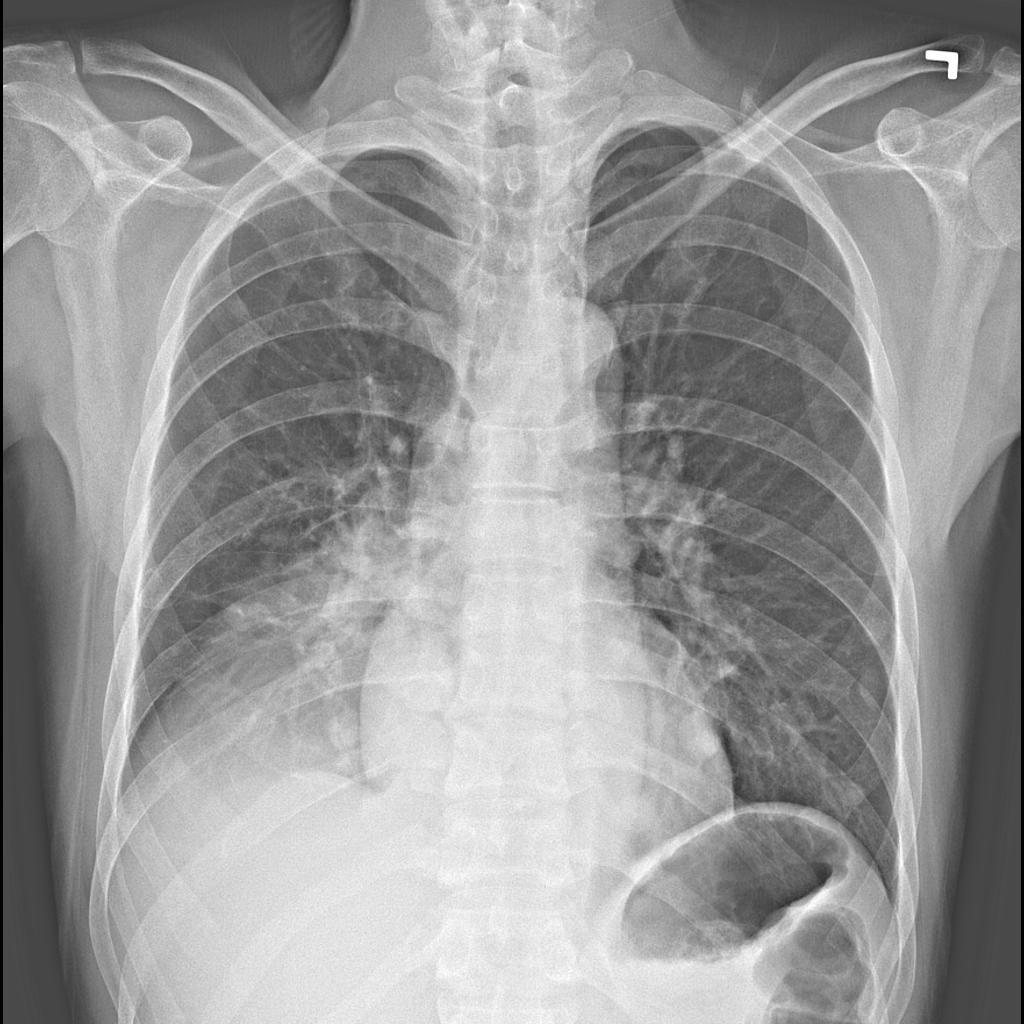Nodule: (386, 639, 464, 725), (672, 709, 723, 772), (614, 786, 658, 843)
